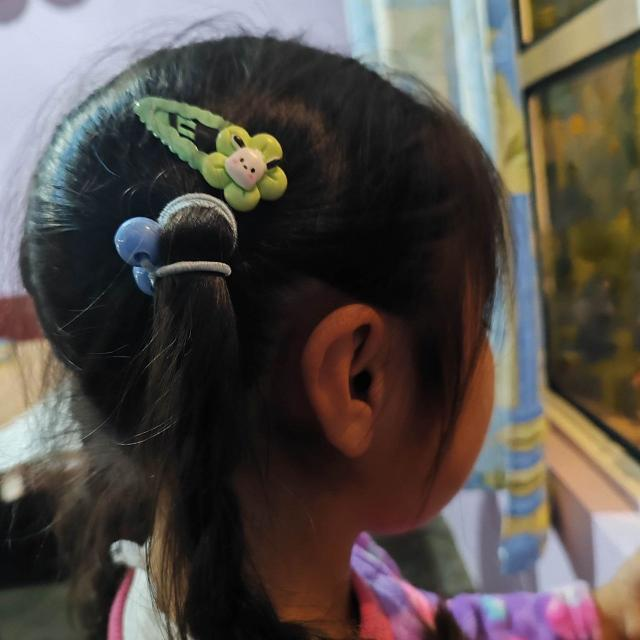ear: (301, 304, 384, 458)
